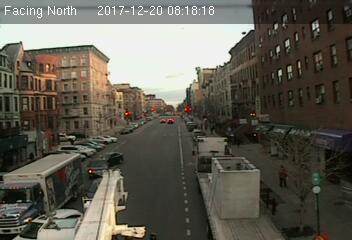car: (87, 154, 109, 177)
pedestrian: (278, 162, 287, 188)
truck: (193, 135, 290, 240), (1, 150, 84, 234)
